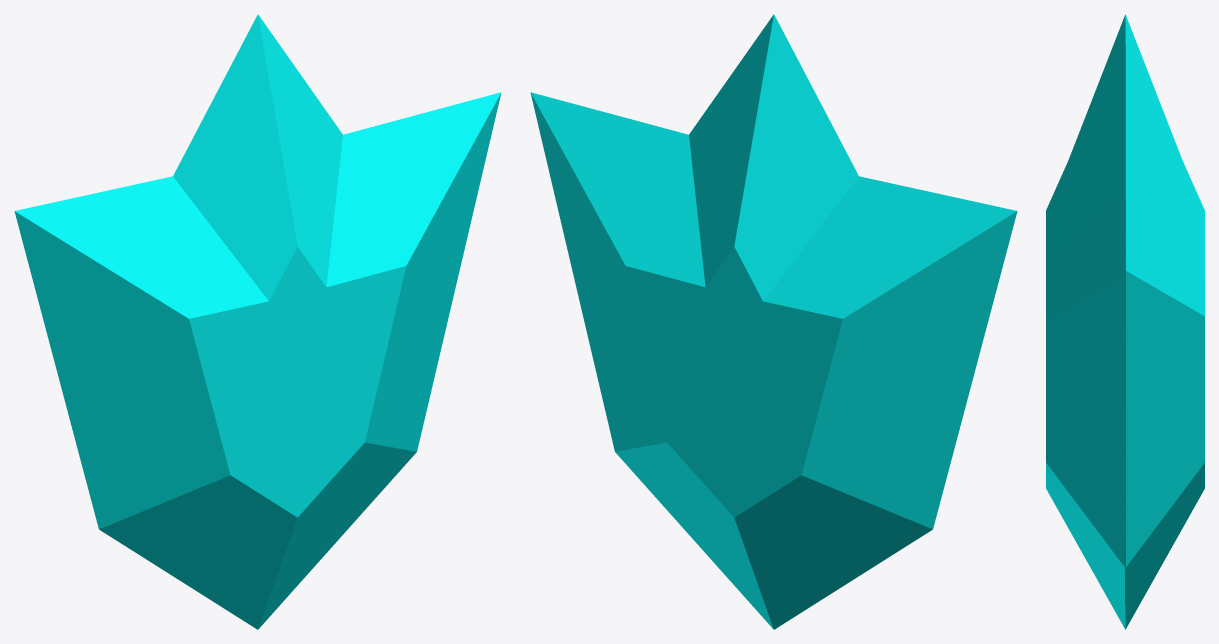
Rendered from shield_pickup.glb.
3 views of the same model, side by side, from view 1: azimuth 30°, elevation 25°; view 2: azimuth 150°, elevation 25°; view 3: azimuth 270°, elevation 25° (orthographic).
Parts seen in each view (by area): view 1: Circle.002; view 2: Circle.002; view 3: Circle.002, Circle.001.
Boxes of the visible parts, x1,y1,x2,y2 form: Circle.002: (14,14,501,629); Circle.002: (530,14,1017,629); Circle.002: (1046,14,1204,629); Circle.001: (1125,45,1125,604).
Bounding box in the file's own units: 2.01 × 2.43 × 0.567.
